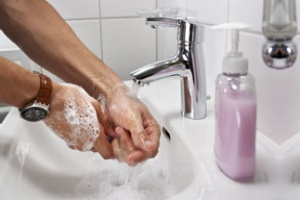washing hand: (37, 14, 202, 185)
